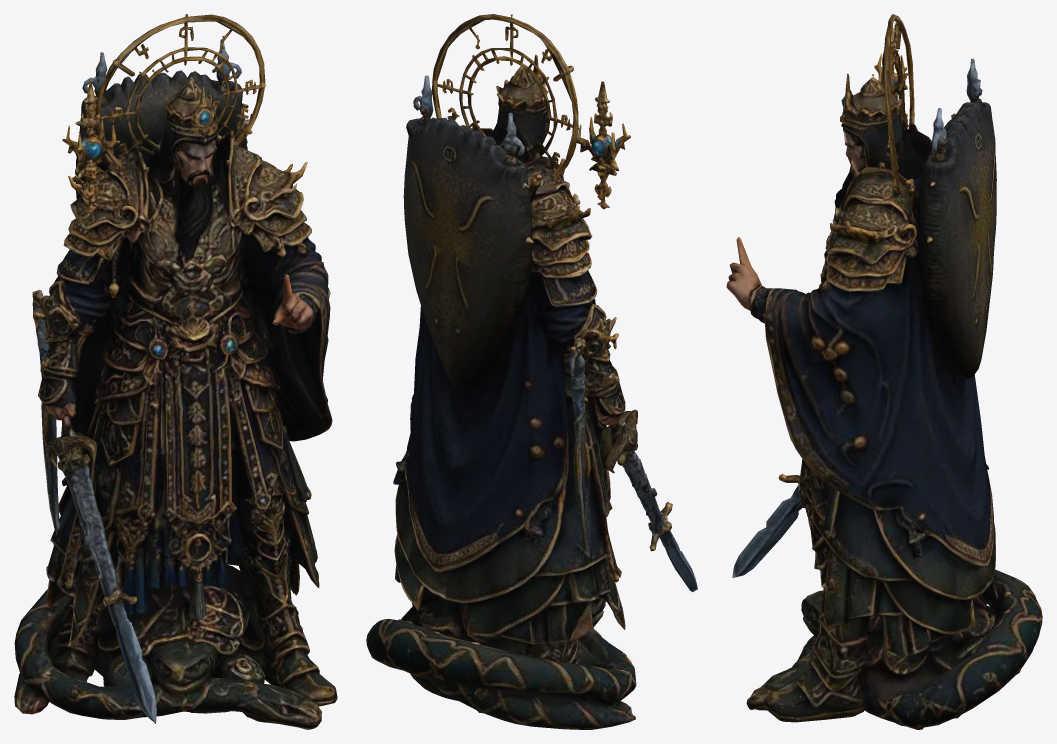
The model's file is mob_ns_zhenwu.glb.
3 renders of one model, left to right at view 1: azimuth 30°, elevation 25°; view 2: azimuth 150°, elevation 25°; view 3: azimuth 270°, elevation 25°, orthographic. The views are drawn at different scales.
Parts seen in each view (by area): view 1: tripo_node_822292c8-3ebf-41cd-842b-13ea84de7b4b; view 2: tripo_node_822292c8-3ebf-41cd-842b-13ea84de7b4b; view 3: tripo_node_822292c8-3ebf-41cd-842b-13ea84de7b4b.
Boxes of the visible parts, x1,y1,x2,y2 form: tripo_node_822292c8-3ebf-41cd-842b-13ea84de7b4b: [14, 14, 337, 729]; tripo_node_822292c8-3ebf-41cd-842b-13ea84de7b4b: [366, 14, 697, 729]; tripo_node_822292c8-3ebf-41cd-842b-13ea84de7b4b: [726, 14, 1042, 729].
Size of the model in its own units: 0.3938 by 0.9806 by 0.4227.
Materials: 1 (1 with a texture image).
